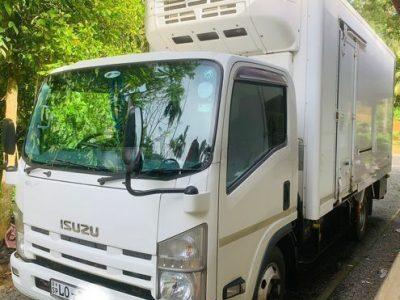truck: (1, 1, 395, 300)
